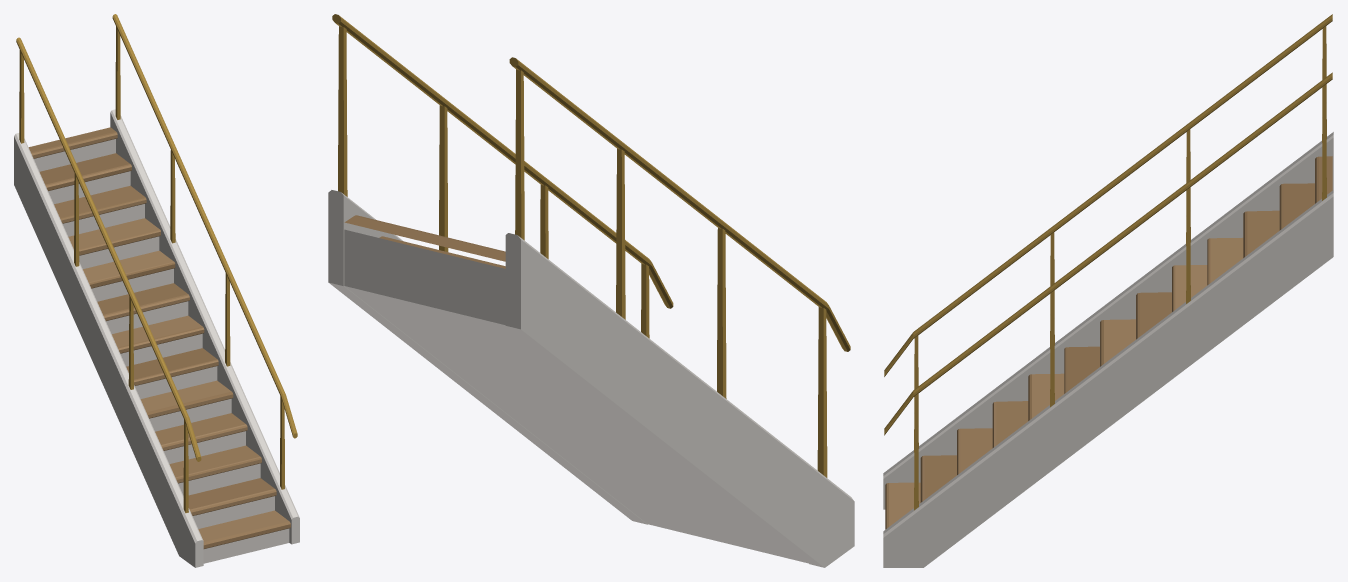
The model's file is straight-stair-flight-236ae7.glb.
The picture shows the model from 3 angles, left to right: view 1: azimuth 30°, elevation 25°; view 2: azimuth 150°, elevation 25°; view 3: azimuth 270°, elevation 25°; orthographic projection. The views are drawn at different scales.
Parts seen in each view (by area): view 1: straight-stair-flight; view 2: straight-stair-flight; view 3: straight-stair-flight.
Part boxes in pixels (box(x1,y1,x2,y2)): straight-stair-flight: box(14, 14, 299, 567); straight-stair-flight: box(328, 14, 854, 567); straight-stair-flight: box(883, 14, 1333, 567).
Size of the model in its own units: 1 by 3.62 by 3.
